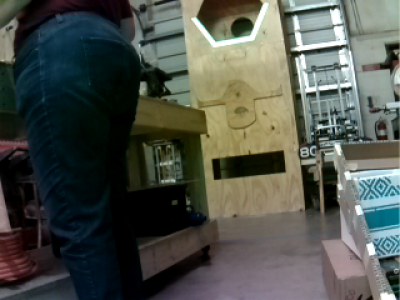target: (190, 3, 269, 46)
